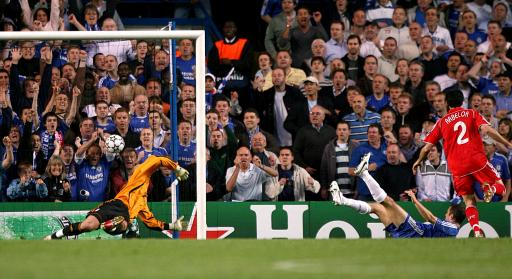10+: (1, 1, 512, 243)
down: (313, 152, 468, 241), (47, 150, 187, 243)
